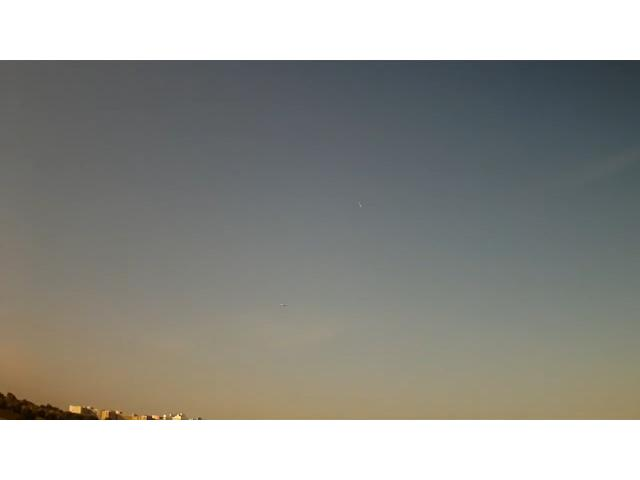Anti-Drone: (272, 299, 290, 308), (354, 200, 366, 212)
